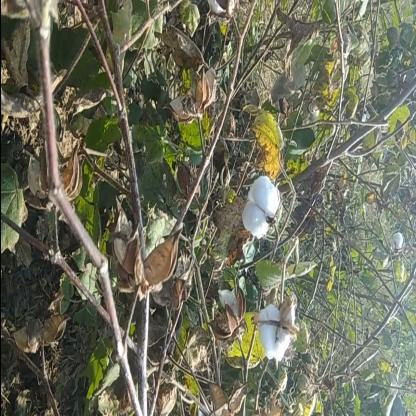cotton_ready: (235, 281, 306, 377), (221, 152, 280, 253)
